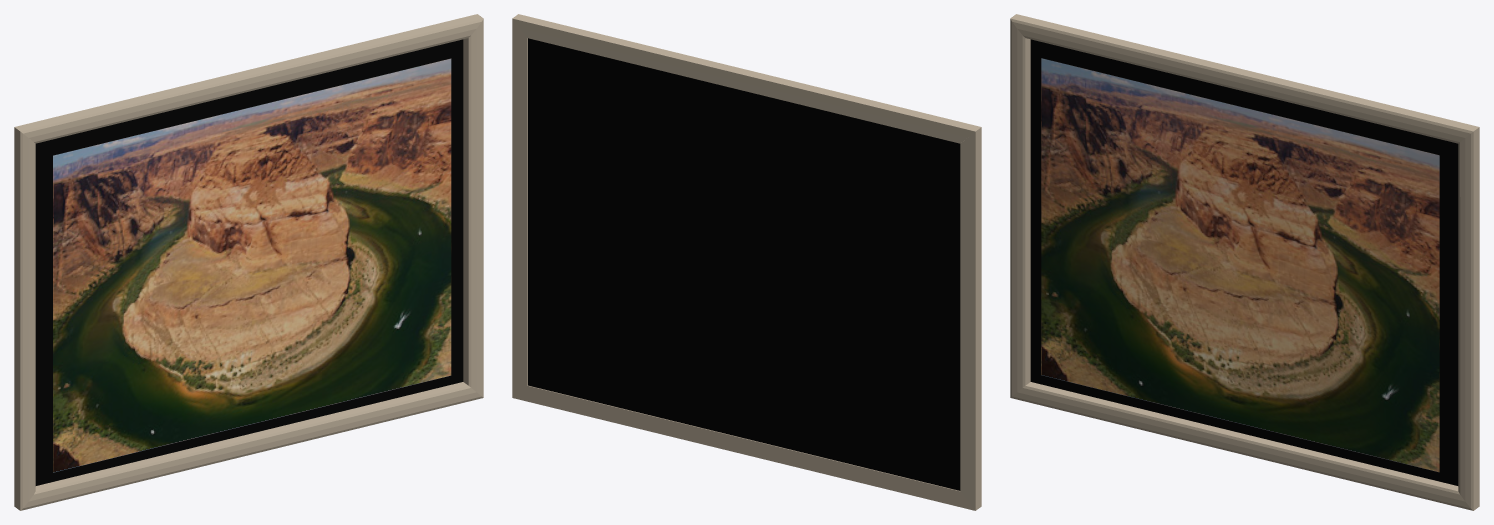
File: HorseShoeBendFrame.obj
3 renders of one model, left to right at view 1: azimuth 30°, elevation 25°; view 2: azimuth 150°, elevation 25°; view 3: azimuth 330°, elevation 25°, orthographic.
Visible parts, largest first — view 1: Photo_Cube_Material_HorseShoeBend, MetalFrame_Cylinder_Aluminium.005, Frame_Black_Material.006; view 2: Frame_Black_Material.006, MetalFrame_Cylinder_Aluminium.005; view 3: Photo_Cube_Material_HorseShoeBend, MetalFrame_Cylinder_Aluminium.005, Frame_Black_Material.006.
Boxes of the visible parts, x1=… form: Photo_Cube_Material_HorseShoeBend: x1=53, y1=58, x2=451, y2=472; MetalFrame_Cylinder_Aluminium.005: x1=14, y1=14, x2=483, y2=510; Frame_Black_Material.006: x1=35, y1=39, x2=463, y2=485; Frame_Black_Material.006: x1=528, y1=38, x2=960, y2=490; MetalFrame_Cylinder_Aluminium.005: x1=512, y1=14, x2=981, y2=510; Photo_Cube_Material_HorseShoeBend: x1=1041, y1=58, x2=1439, y2=472; MetalFrame_Cylinder_Aluminium.005: x1=1010, y1=14, x2=1479, y2=510; Frame_Black_Material.006: x1=1030, y1=39, x2=1458, y2=485.
Size of the model in its own units: 61.16 by 47.86 by 1.6.
Materials: 3 (1 with a texture image).
